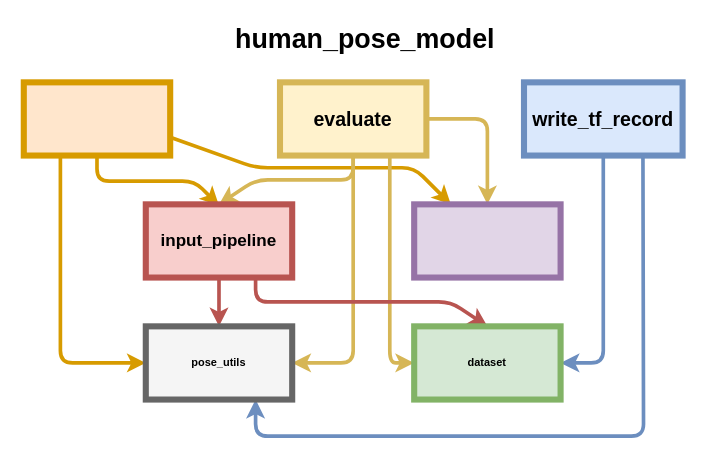
Image size: 706x468. Some labels were removed from this diagram. The centre of each missing label's shape, as x and y in pixels:
"networks" belongs at (x=487, y=240).
"train" belongs at (x=96, y=118).
